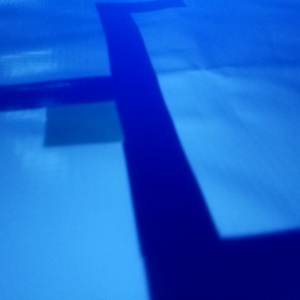bottom_left: (55, 107, 197, 182)
